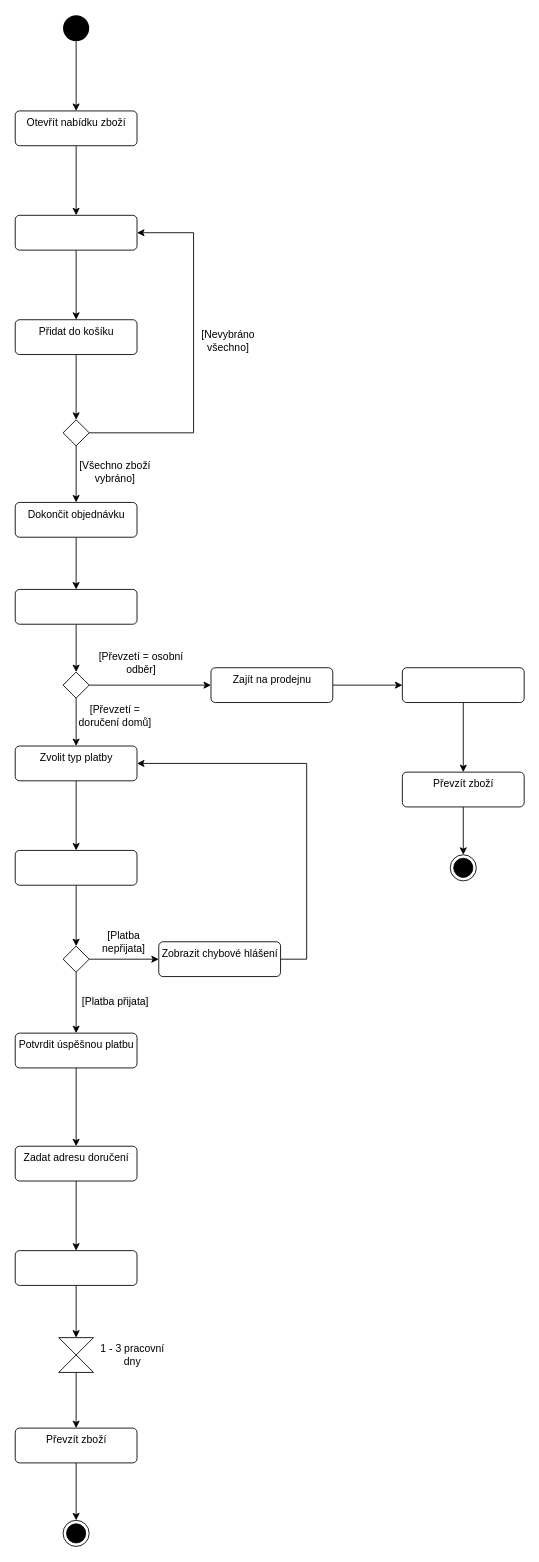
Some shapes in this 539 by 1562 pixel diagram are drawn without their labels. Each missing label, with the centre of its shape:
Vybrat typ převzetí: point 75,606
Vybrat zboží: point 75,232
Vyčkat na doručení: point 75,1267
Zaplatit: point 75,867
Zaplatit zboží: point 463,685
